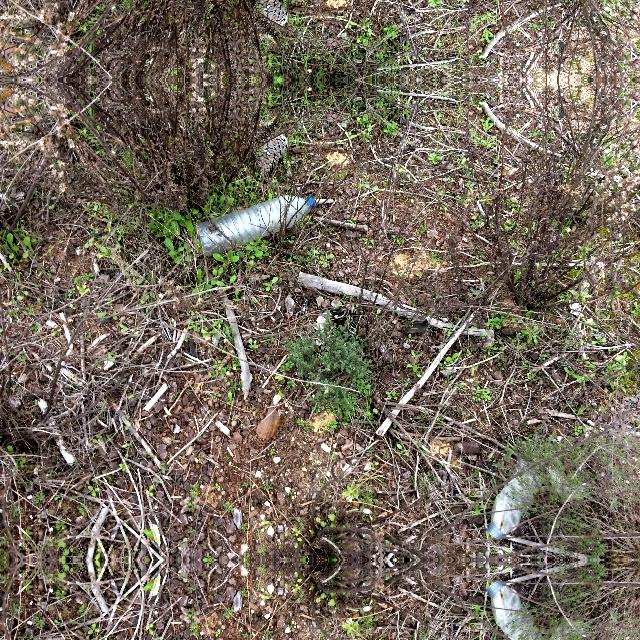Plastic: (184, 190, 322, 258), (476, 458, 558, 546), (476, 573, 558, 640)
